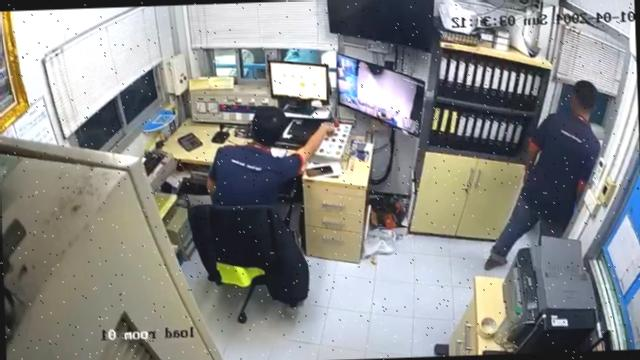Head: (250, 106, 289, 146), (569, 80, 597, 114)
People: (484, 81, 600, 268), (206, 107, 333, 205)
Phone: (305, 165, 332, 175)
